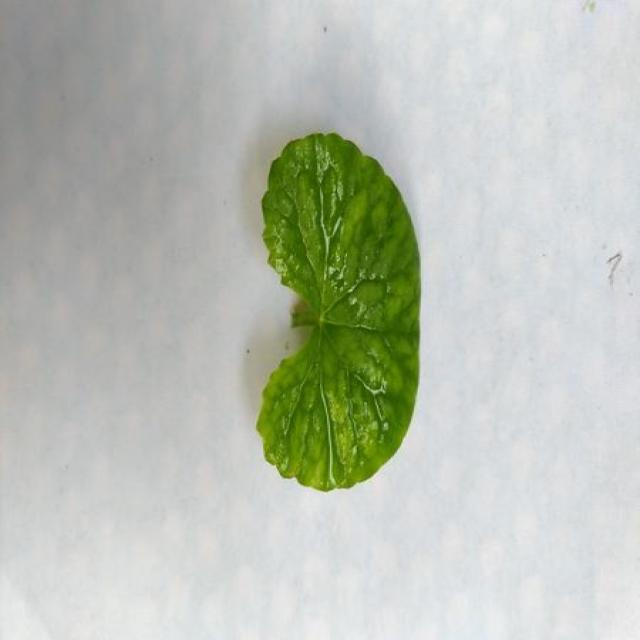defectedbhrami: (257, 134, 420, 491)
